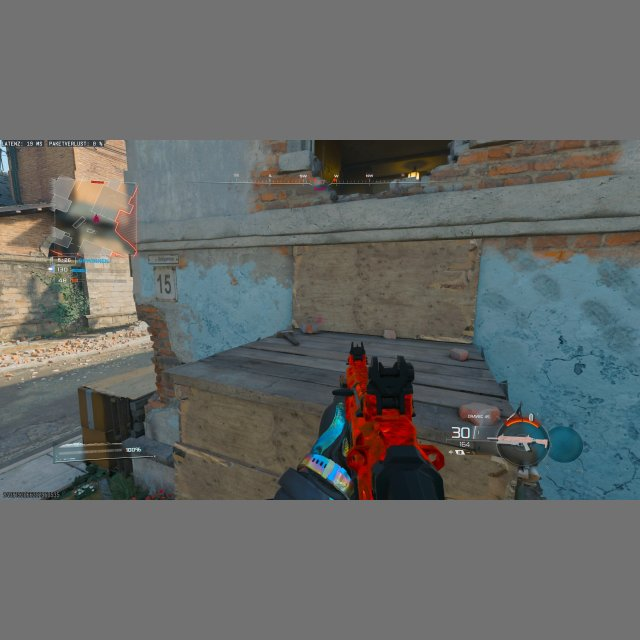player: (454, 403, 582, 499)
